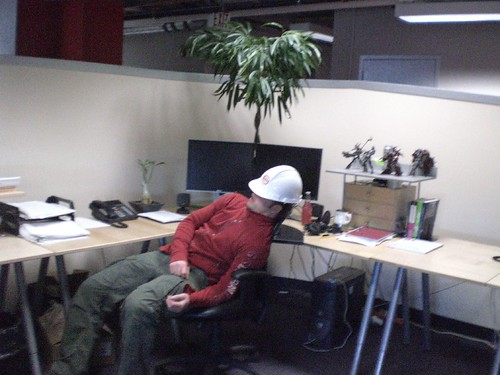person hardhat: (64, 165, 307, 375)
